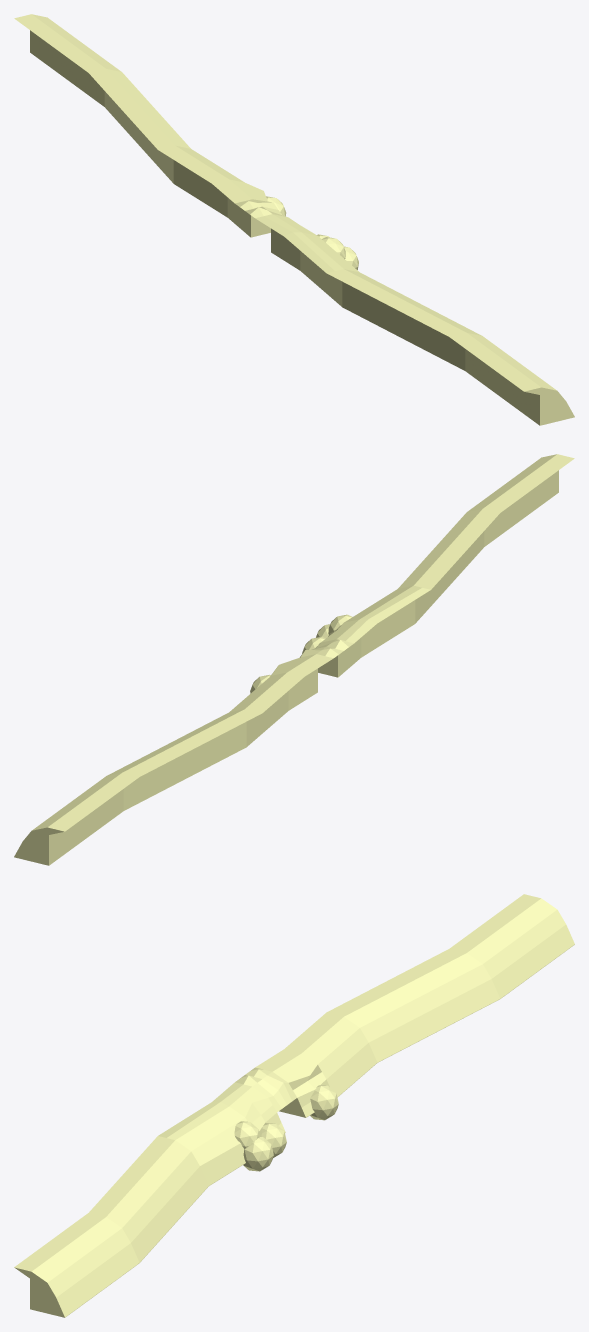
Rendered from ExternalCliffs.fbx.
3 views of the same model, one above another, from view 1: azimuth 30°, elevation 25°; view 2: azimuth 150°, elevation 25°; view 3: azimuth 330°, elevation 25° (orthographic).
Parts seen in each view (by area): view 1: Cube; view 2: Cube; view 3: Cube, Icosphere.003, Icosphere.001, Icosphere.
Part boxes in pixels (x1,y1,x2,y2): Cube: (14, 14, 574, 425); Cube: (14, 454, 574, 865); Cube: (14, 894, 574, 1317); Icosphere.003: (243, 1136, 273, 1171); Icosphere.001: (310, 1085, 338, 1120); Icosphere: (261, 1123, 286, 1157).
Size of the model in its own units: 8893 by 6184 by 100897.
